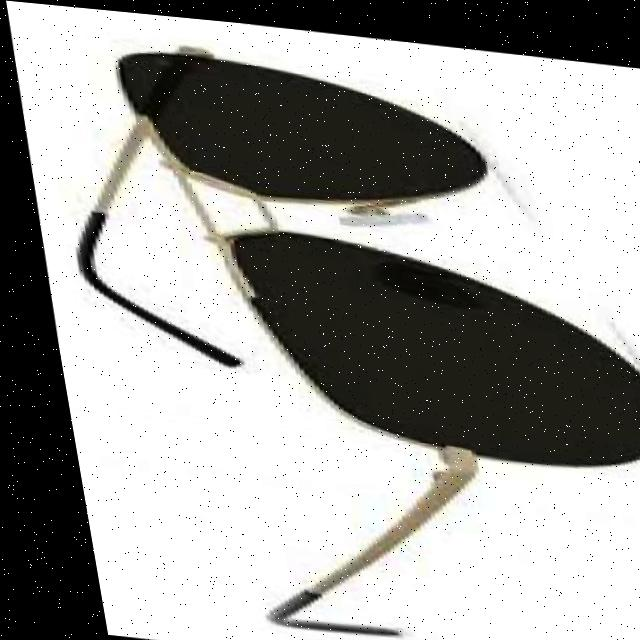gozluk: (79, 18, 640, 491)
